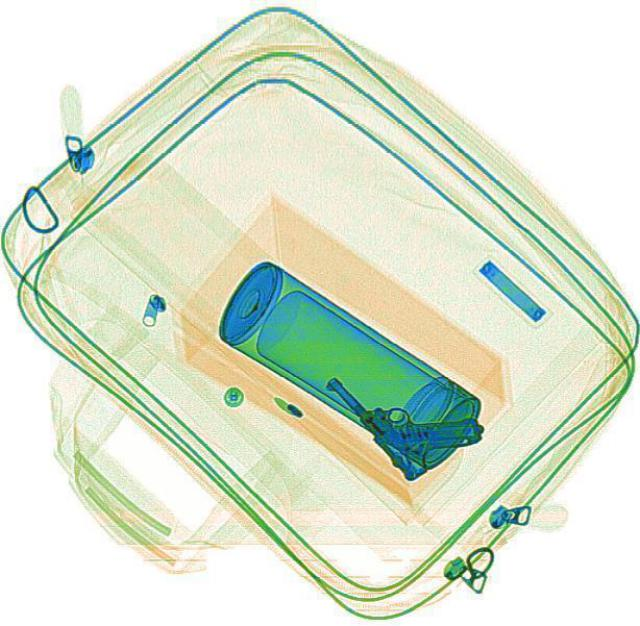Gun: (320, 327, 490, 486)
